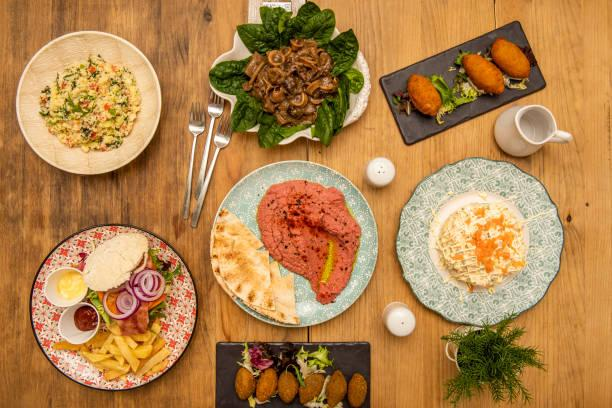Braised Crucian Carp: (394, 157, 564, 325), (29, 224, 197, 392), (212, 160, 376, 325), (207, 13, 370, 148), (379, 19, 548, 145), (15, 31, 161, 175), (206, 338, 377, 408), (44, 267, 88, 306)
